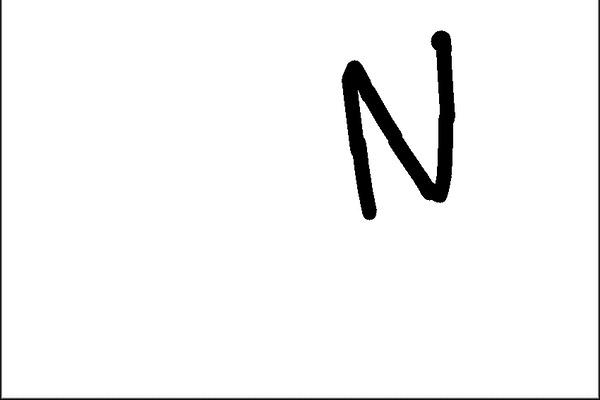N: (334, 27, 463, 223)
